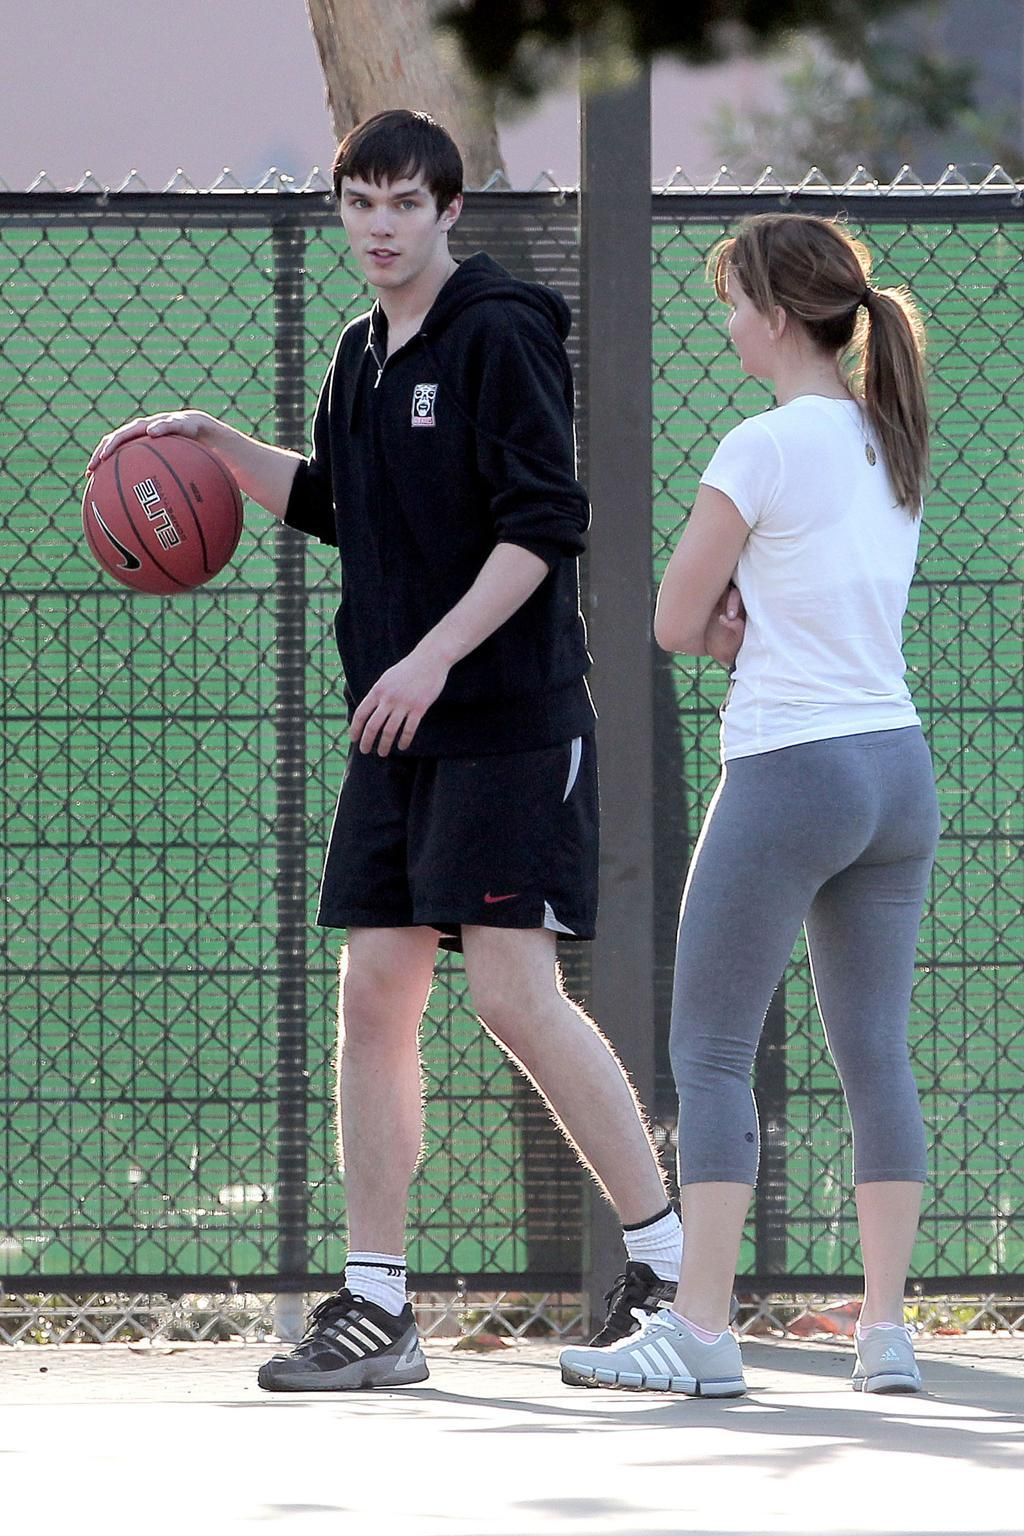face: (340, 154, 439, 289)
